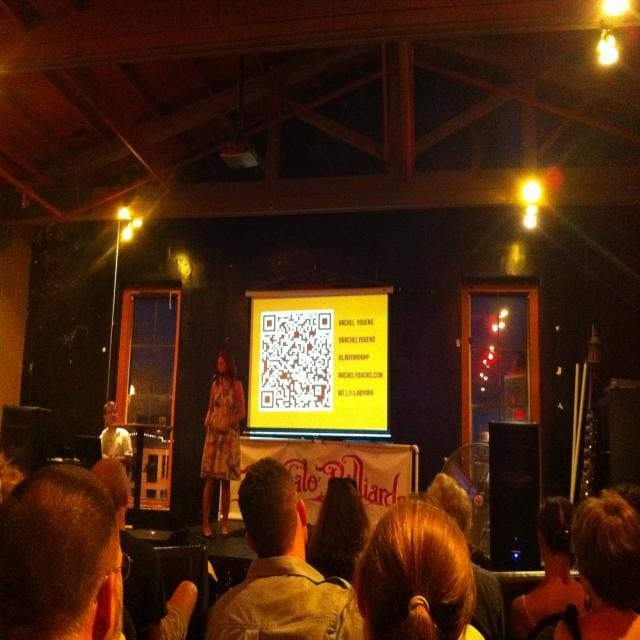qrcode: (262, 314, 332, 409)
